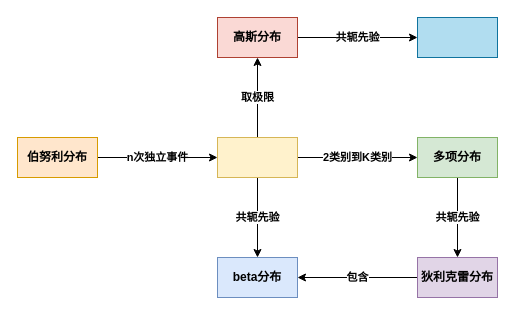
Some shapes in this 515 by 315 pixel diagram are drawn without their labels. Each missing label, with the box of its shape:
二项分布: (216, 136, 298, 178)
高斯-Gamma分布: (416, 16, 498, 58)
